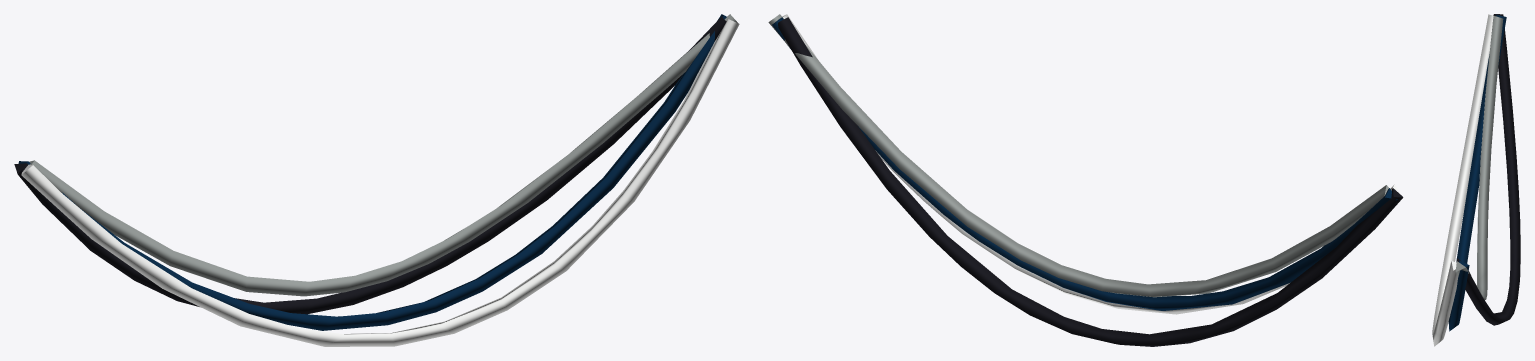
Rendered from cables_small.fbx.
3 renders of one model, left to right at view 1: azimuth 30°, elevation 25°; view 2: azimuth 150°, elevation 25°; view 3: azimuth 270°, elevation 25°, orthographic. The views are drawn at different scales.
Parts seen in each view (by area): view 1: cables_small; view 2: cables_small; view 3: cables_small.
Boxes of the visible parts, bbox=[...] form: cables_small: bbox=[14, 14, 739, 346]; cables_small: bbox=[768, 14, 1403, 346]; cables_small: bbox=[1432, 14, 1520, 346].
Bounding box in the file's own units: 334 × 109 × 49.07.
